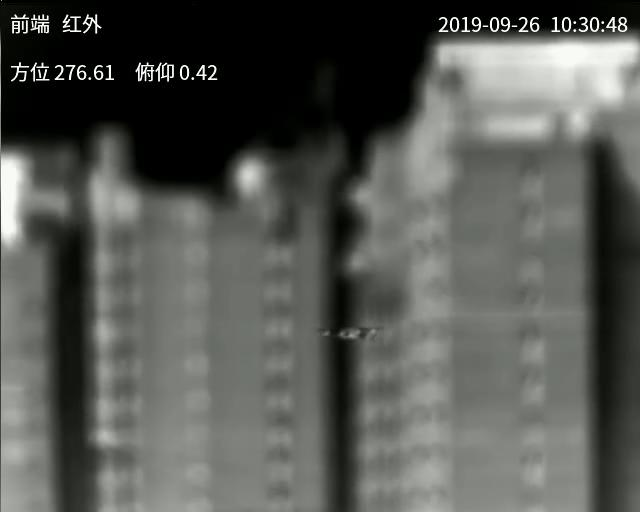uav: (317, 323, 381, 347)
